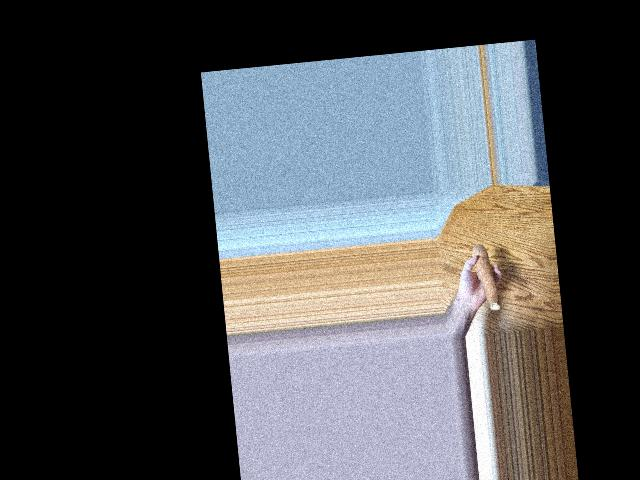sweet_potato: (474, 239, 502, 317)
